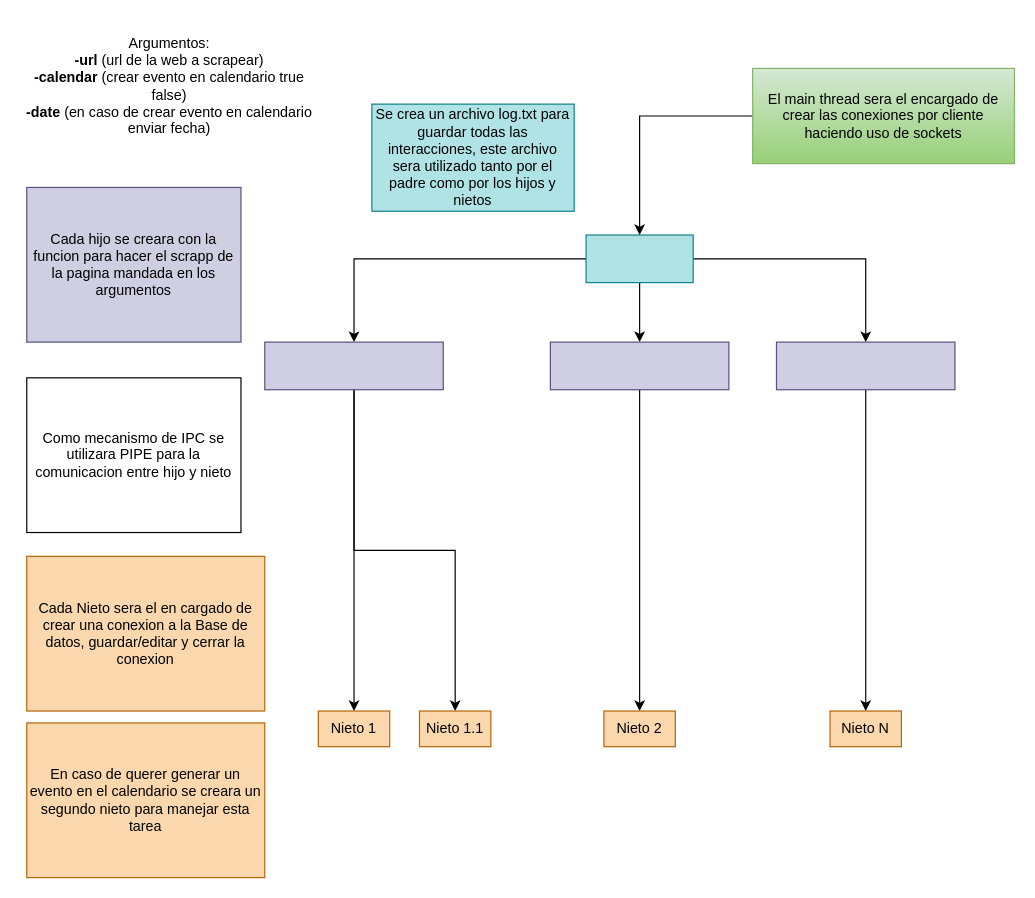
This 1035x898 diagram has some shape labels left out. Here are the shapes that lost their labels. From the top down, the box of each, then its label:
(585, 234, 693, 283): Proceso Padre
(264, 341, 443, 390): Hijo 1
(549, 341, 729, 390): Hijo 2
(775, 341, 955, 390): Hijo N
